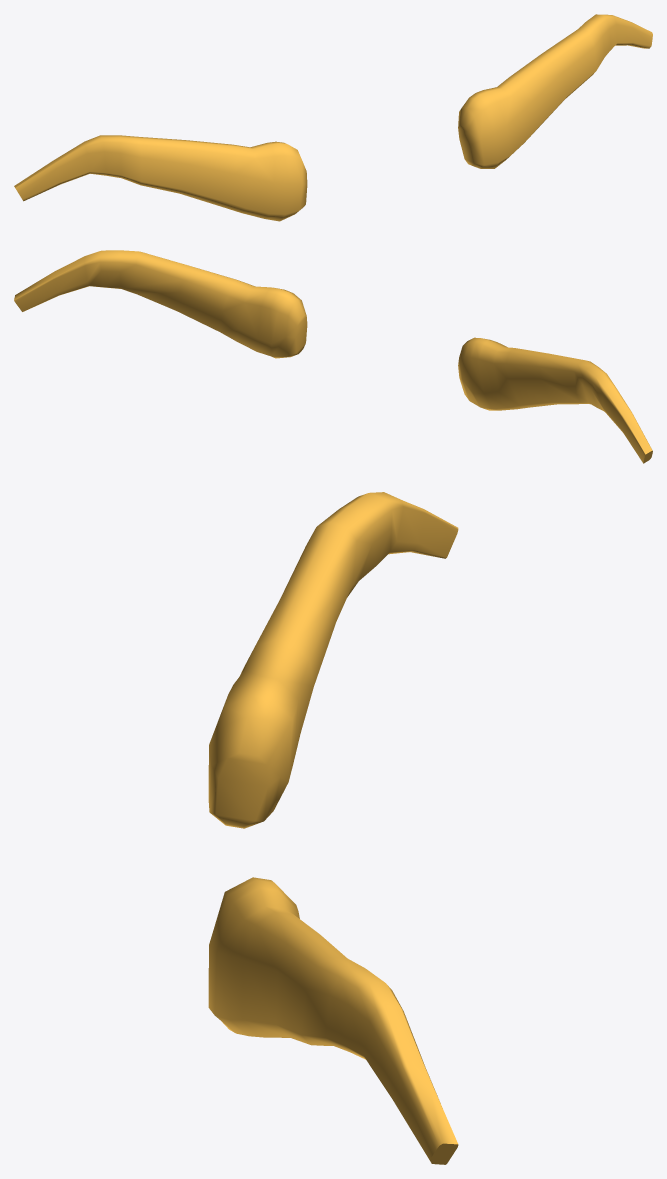
The model's file is Eyebrows_13_05.fbx.
3 views of the same model, one above another, from view 1: azimuth 30°, elevation 25°; view 2: azimuth 150°, elevation 25°; view 3: azimuth 270°, elevation 25° (orthographic). The views are drawn at different scales.
Parts seen in each view (by area): view 1: Eyebrows_13_05; view 2: Eyebrows_13_05; view 3: Eyebrows_13_05.
Boxes of the visible parts, x1,y1,x2,y2 form: Eyebrows_13_05: (14, 14, 652, 221); Eyebrows_13_05: (14, 250, 652, 463); Eyebrows_13_05: (208, 492, 458, 1164).
Size of the model in its own units: 19.7 by 2.81 by 3.35.
